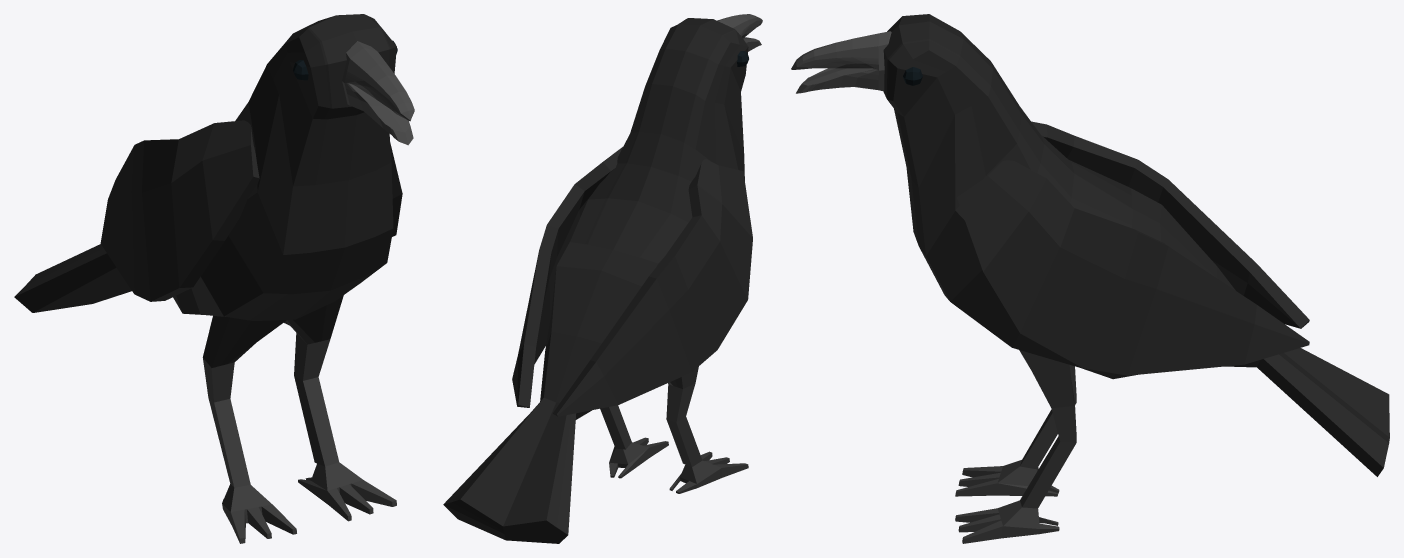
The model's file is crow.fbx.
The picture shows the model from 3 angles, left to right: view 1: azimuth 30°, elevation 25°; view 2: azimuth 150°, elevation 25°; view 3: azimuth 270°, elevation 25°; orthographic projection. The views are drawn at different scales.
Parts seen in each view (by area): view 1: Cube.001; view 2: Cube.001; view 3: Cube.001.
Boxes of the visible parts, bbox=[...] form: Cube.001: bbox=[14, 14, 414, 543]; Cube.001: bbox=[443, 14, 762, 543]; Cube.001: bbox=[791, 14, 1389, 543].
Size of the model in its own units: 131 by 304 by 336.
